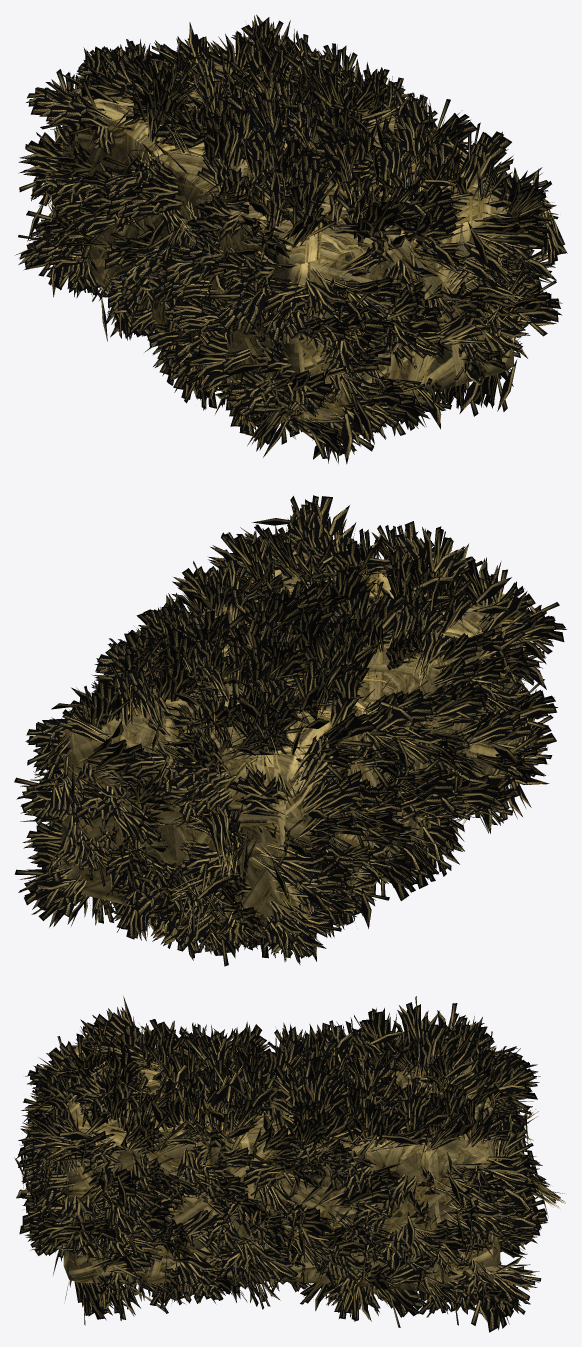
File: SM_HayBale_02.fbx
3 views of the same model, one above another, from view 1: azimuth 30°, elevation 25°; view 2: azimuth 150°, elevation 25°; view 3: azimuth 270°, elevation 25° (orthographic). The views are drawn at different scales.
Parts seen in each view (by area): view 1: SM_HayBale_02_LOD0; view 2: SM_HayBale_02_LOD0; view 3: SM_HayBale_02_LOD0.
Boxes of the visible parts, box(x1,y1,x2,y2) form: SM_HayBale_02_LOD0: box(15, 14, 567, 464); SM_HayBale_02_LOD0: box(14, 495, 566, 966); SM_HayBale_02_LOD0: box(14, 996, 565, 1332).
Bounding box in the file's own units: 87.24 × 145 × 71.54.
2 materials, 2 textured.
